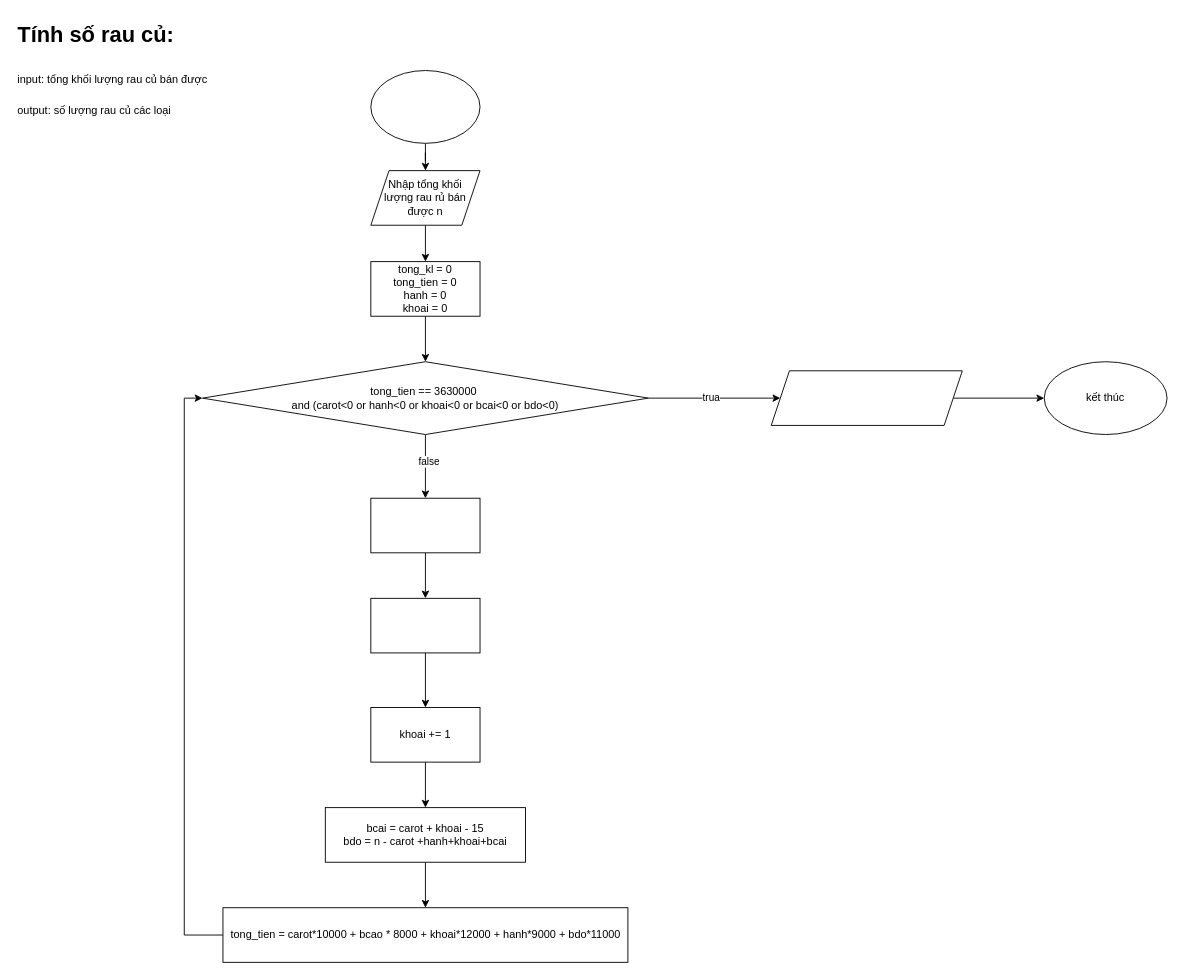
The diagram is 1183 pixels wide and 978 high, and some of its shapes have lost their labels. The centre of each missing label's shape, as x and y in pixels:
Bắt đầu: [425,106]
carot = 2*hanh: [425,625]
hanh += 1: [425,525]
in ra màn hình số carot, hanh, bcai, khoai, bdo: [866,397]
